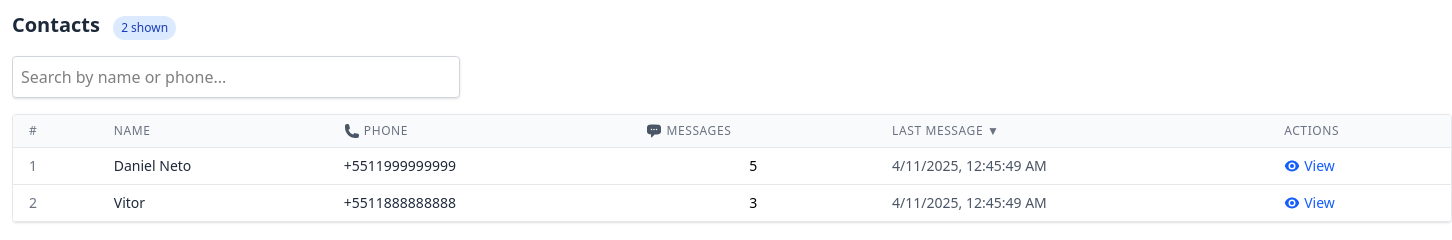
Test: filters contacts by name
The image size is (1452, 240).
Type "Vitor" into the field with placeholder "Search by name or phone...". click: (236, 77)
box: [12,56,460,98]
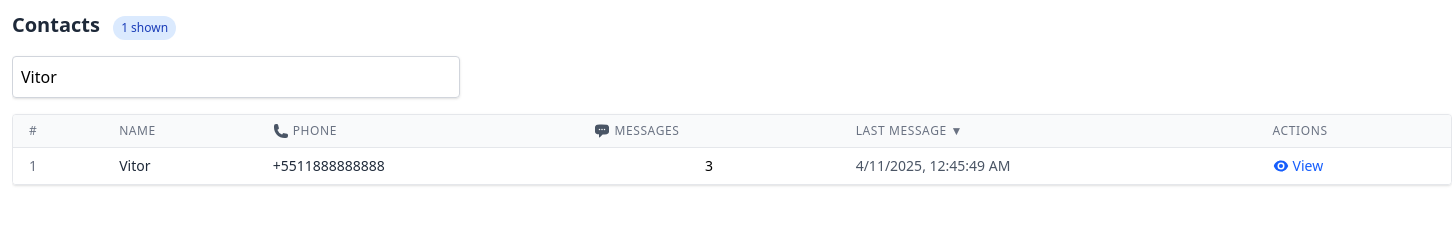
Now the text "Vitor" is shown, box [103,148,257,184]
Now the text "Daniel Neto" is gone
